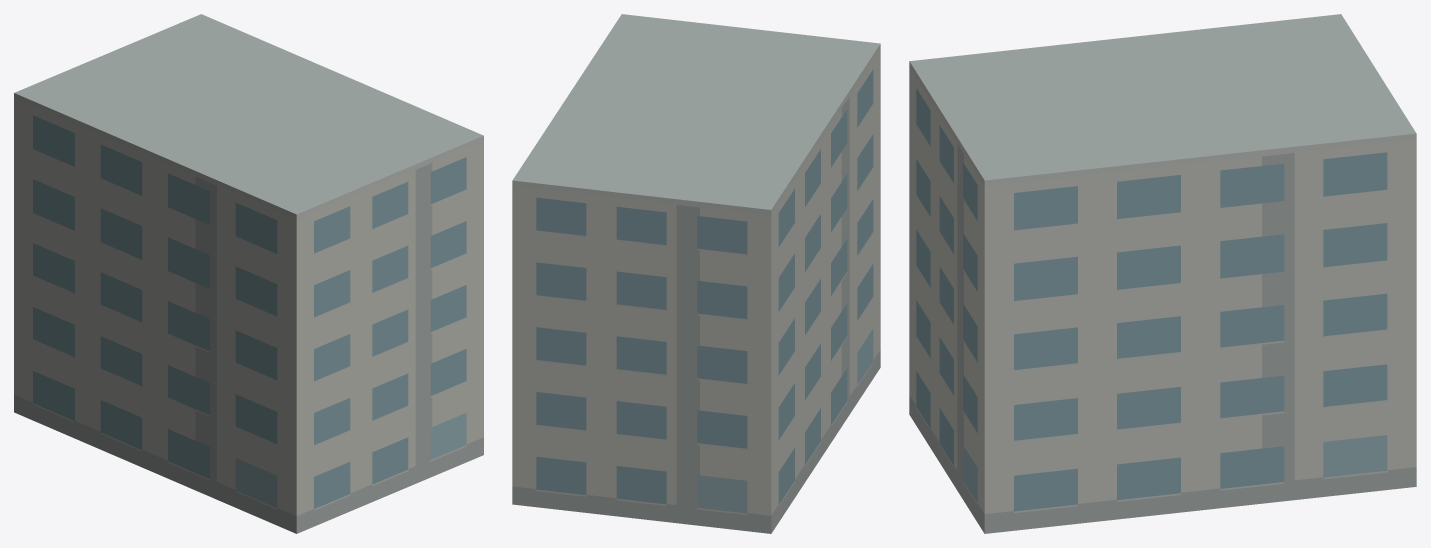
Rendered from survey-upis-32793668.glb.
3 renders of one model, left to right at view 1: azimuth 30°, elevation 25°; view 2: azimuth 150°, elevation 25°; view 3: azimuth 270°, elevation 25°, orthographic. The views are drawn at different scales.
Visible parts, largest first — view 1: survey-upis-32793668.tmp; view 2: survey-upis-32793668.tmp; view 3: survey-upis-32793668.tmp.
Part boxes in pixels (x1,y1,x2,y2): survey-upis-32793668.tmp: (14,14,483,533); survey-upis-32793668.tmp: (512,14,880,533); survey-upis-32793668.tmp: (909,14,1416,533).
Bounding box in the file's own units: 14.06 × 13.9 × 18.09.
